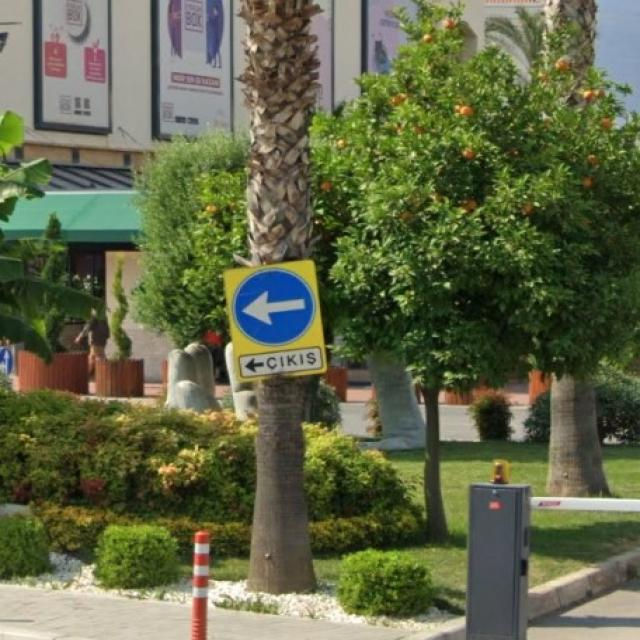Turn Left: (231, 271, 317, 346)
